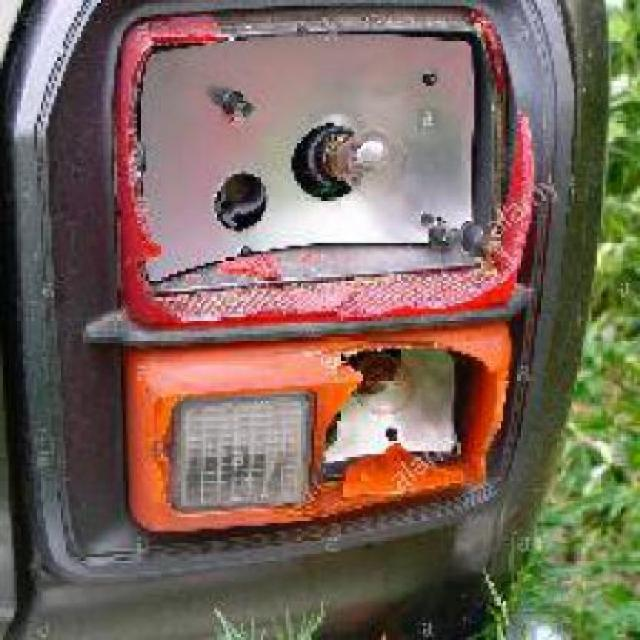damaged-tail-light: (109, 15, 520, 537)
